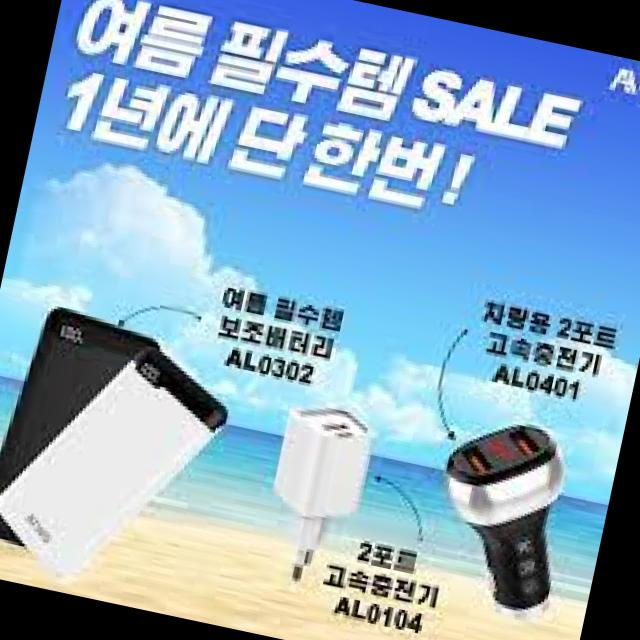portable-charger: (0, 310, 244, 595), (0, 300, 162, 576)
